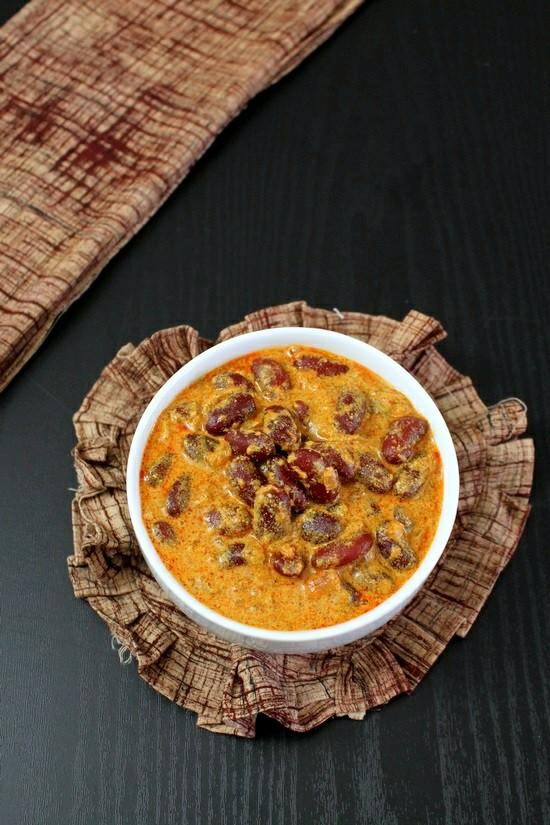RajmaCurry: (142, 350, 443, 625)
